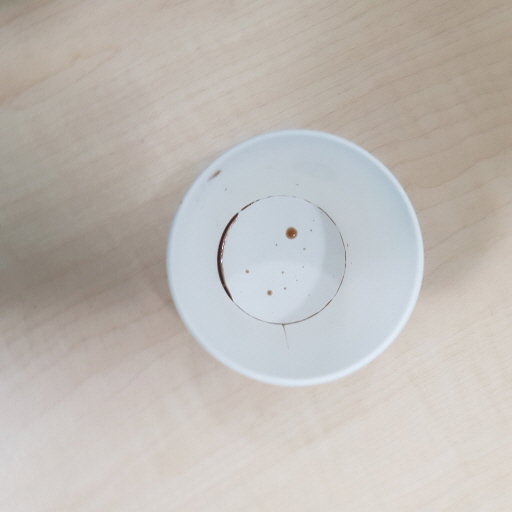Paper_1: (160, 129, 425, 385)
